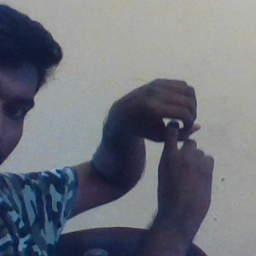Q: (108, 74, 222, 202)
